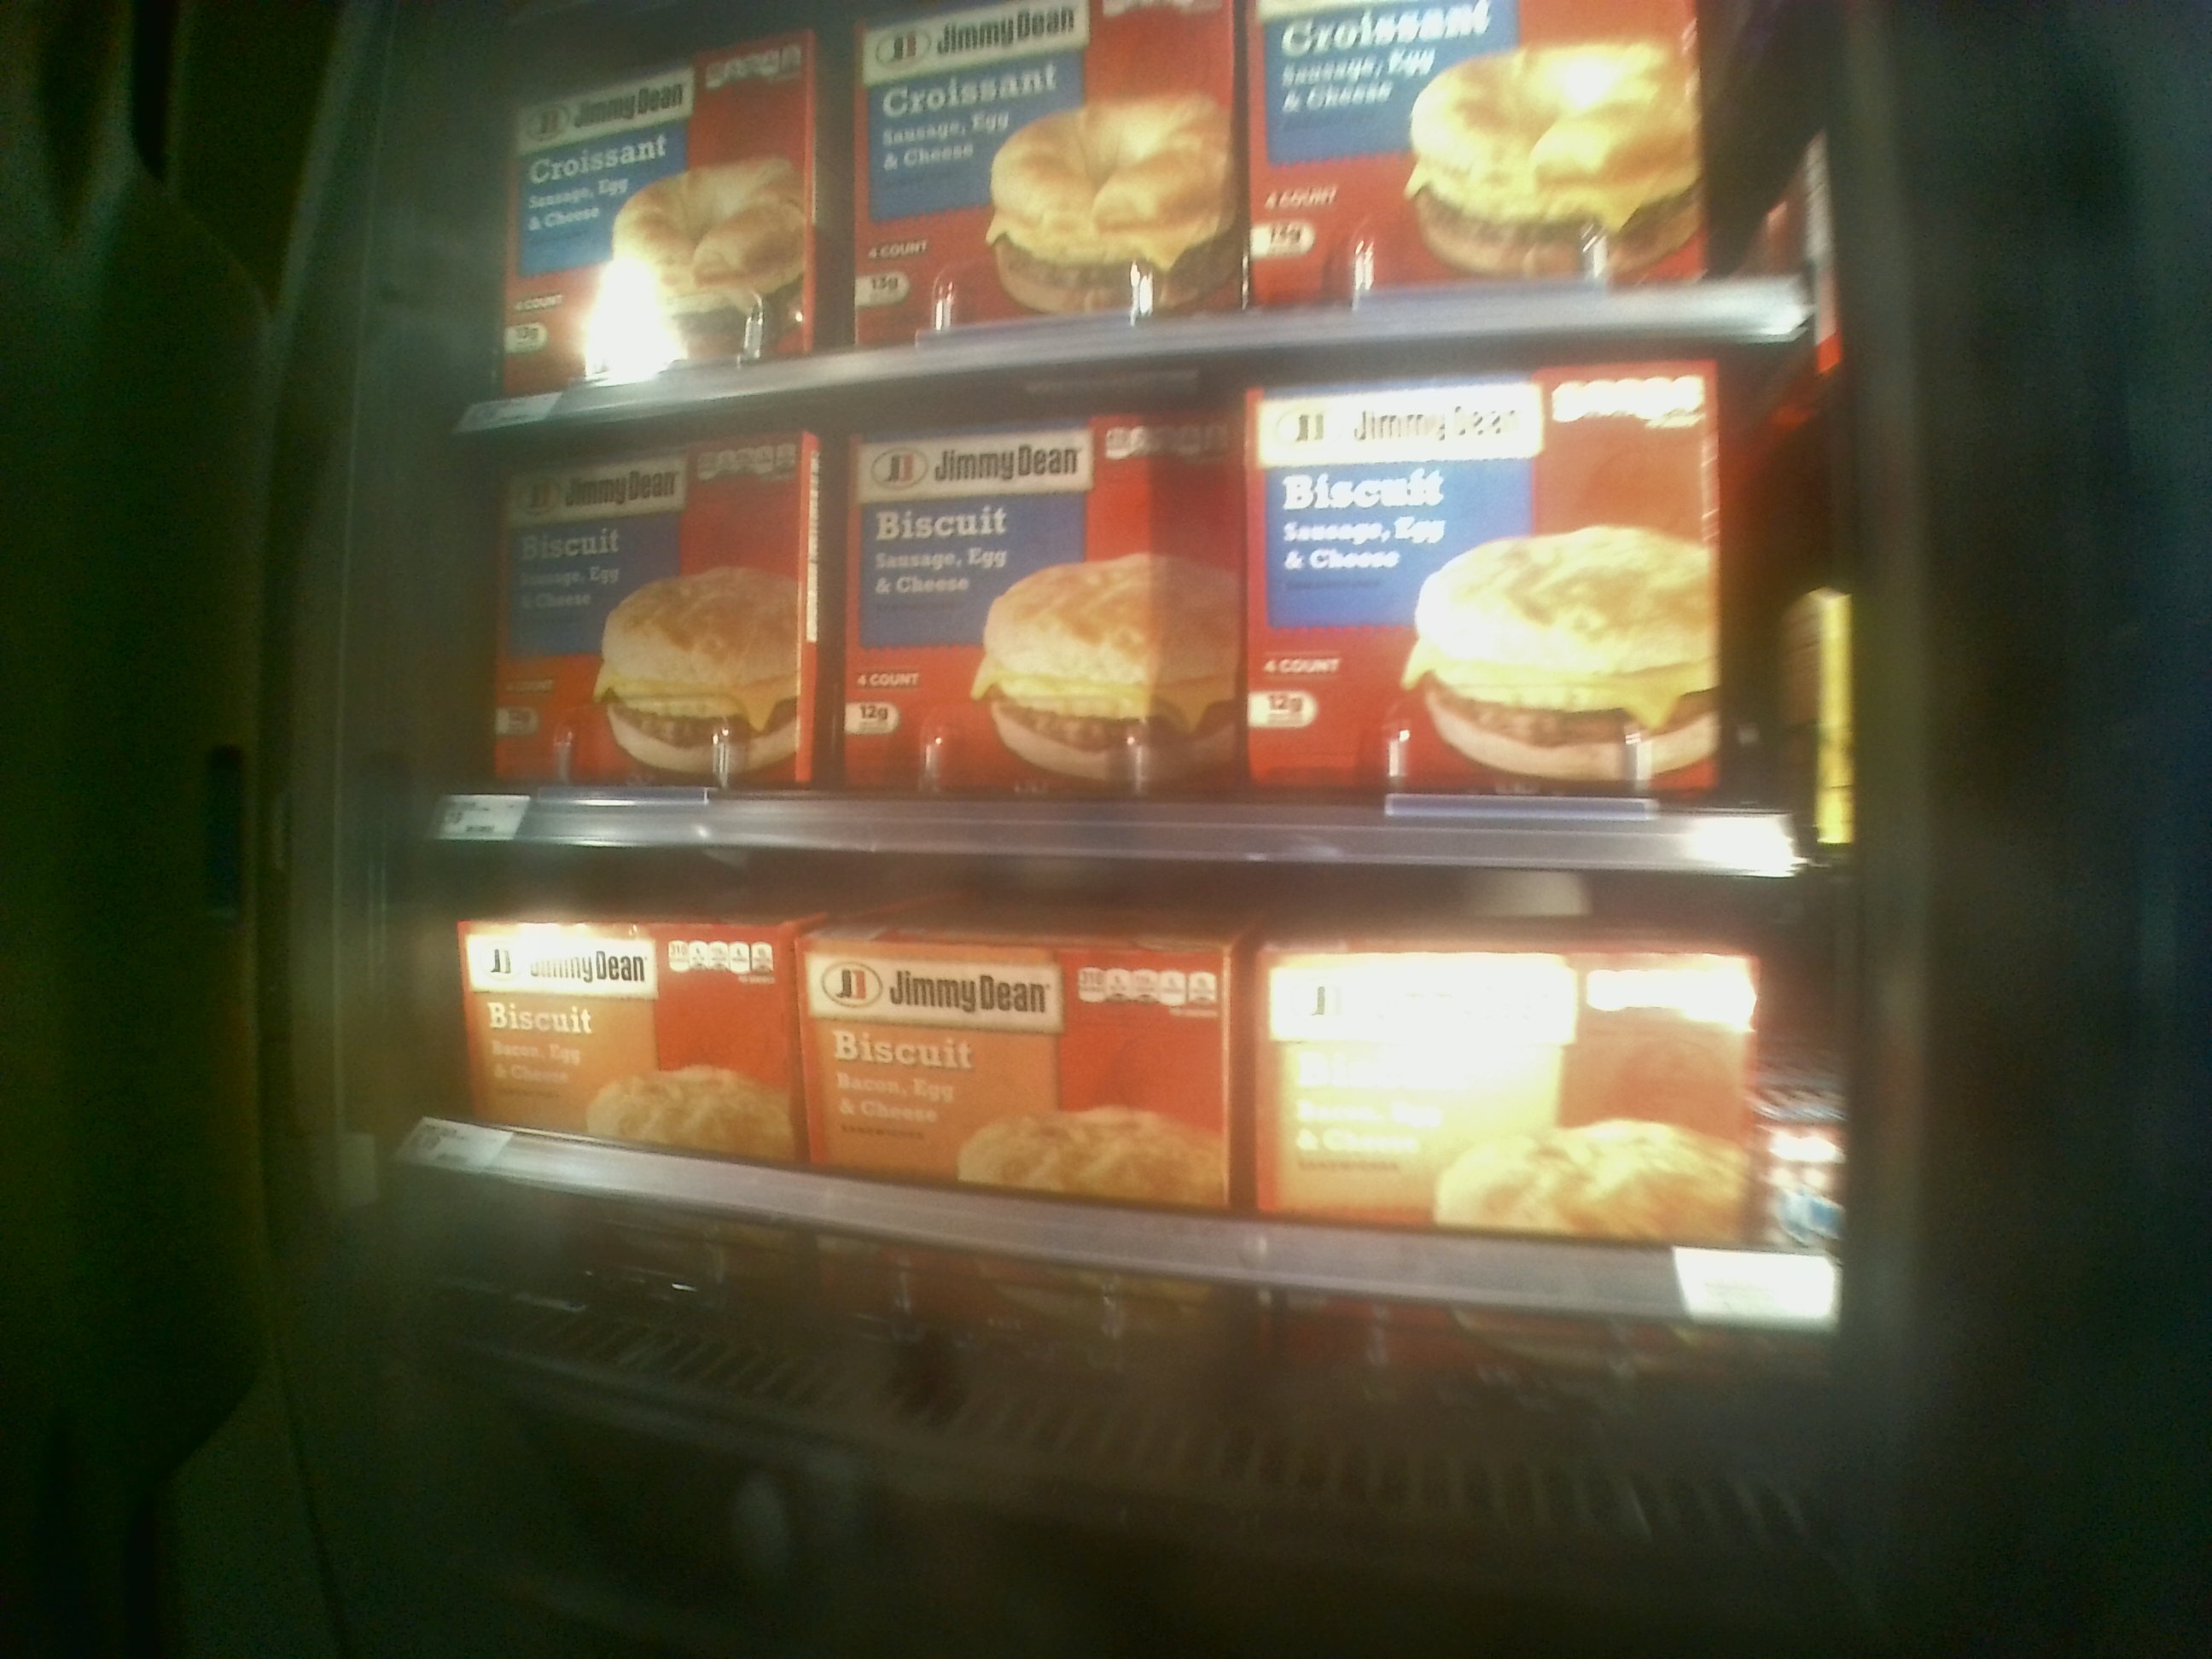shelf: (439, 342, 1822, 868)
